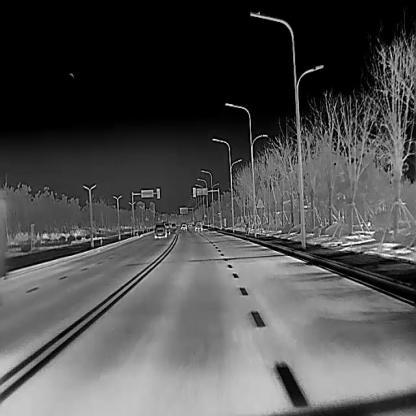car: (154, 222, 166, 237), (163, 222, 170, 235), (194, 220, 202, 231), (180, 222, 187, 230), (171, 222, 176, 229)
